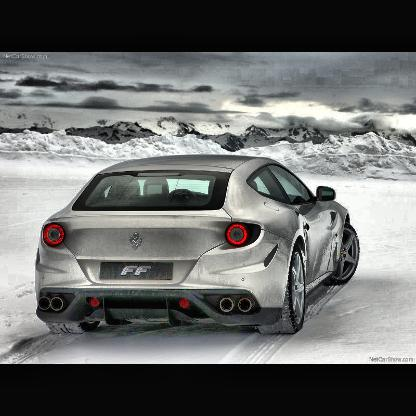Ferrari FF Coupe 2012: (36, 155, 363, 338)
